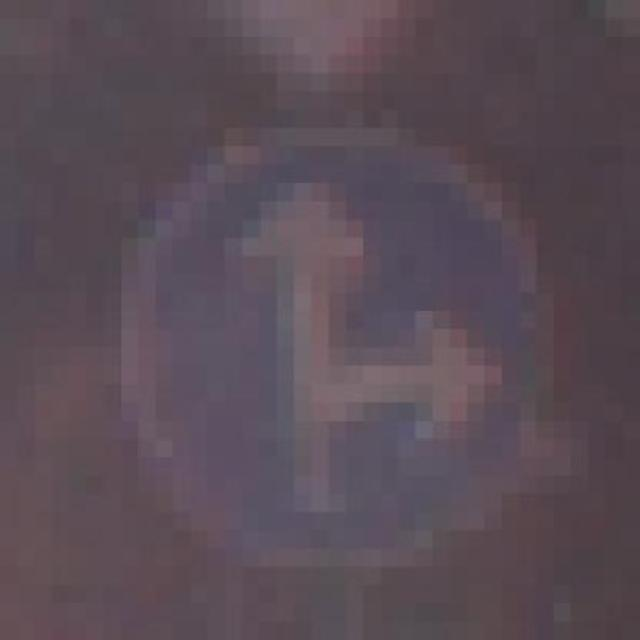Go Straight or Turn Right: (103, 128, 571, 586)
